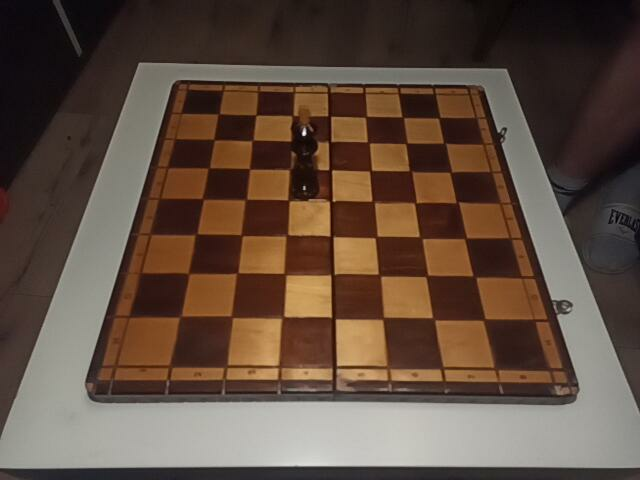B-King: (291, 108, 319, 200)
